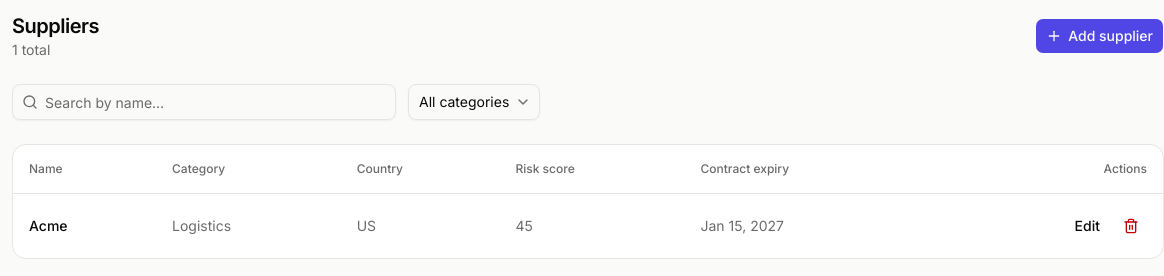
SupplierList > delete confirmation flow › a failed delete surfaces an error instead of silently reloading
Expected: the link "Acme" is shown, [29,217,68,234]
Click the button named "Delete Acme" at (1131, 226), box [1115,210,1147,242]
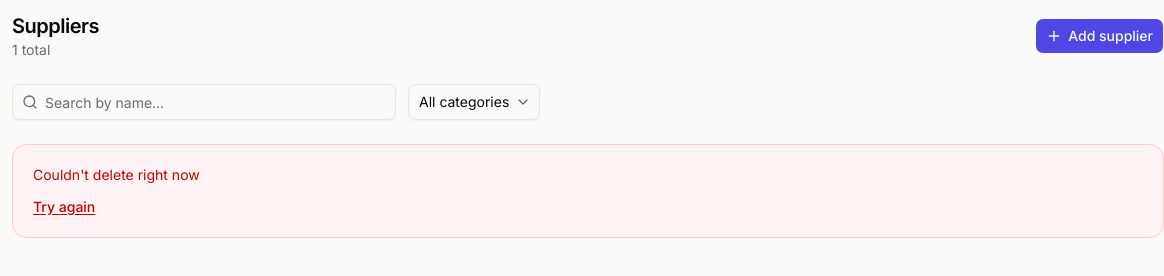
Expected: the text "Couldn't delete right now" is shown, [33,166,200,183]
